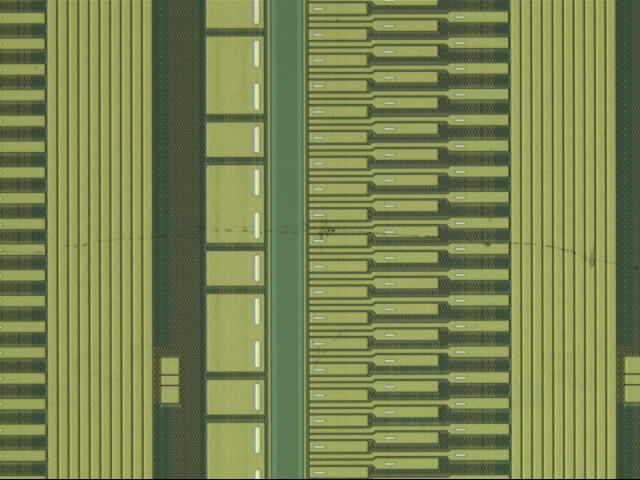SCRATCH: (1, 223, 640, 281)
